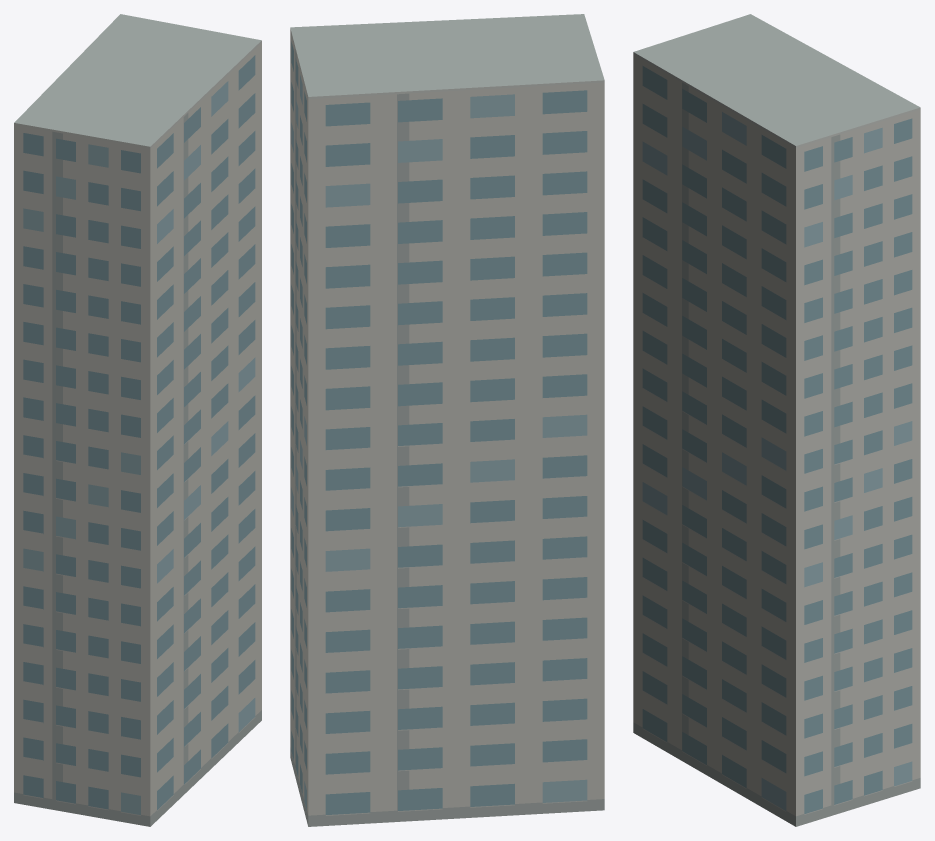
The model's file is residential-048b5dd4-a3de-4418-8e36-a854cd86092b.glb.
3 views of the same model, side by side, from view 1: azimuth 30°, elevation 25°; view 2: azimuth 150°, elevation 25°; view 3: azimuth 270°, elevation 25° (orthographic). The views are drawn at different scales.
Visible parts, largest first — view 1: residential-048b5dd4-a3de-4418-8e36-a854cd86092b.tmp; view 2: residential-048b5dd4-a3de-4418-8e36-a854cd86092b.tmp; view 3: residential-048b5dd4-a3de-4418-8e36-a854cd86092b.tmp.
Boxes of the visible parts, x1,y1,x2,y2 form: residential-048b5dd4-a3de-4418-8e36-a854cd86092b.tmp: (14,14,261,826); residential-048b5dd4-a3de-4418-8e36-a854cd86092b.tmp: (290,14,604,826); residential-048b5dd4-a3de-4418-8e36-a854cd86092b.tmp: (633,14,920,826).
Size of the model in its own units: 32.88 by 79 by 30.22.
